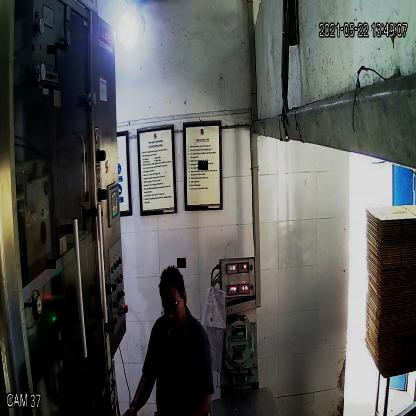goggles: (160, 298, 186, 320)
